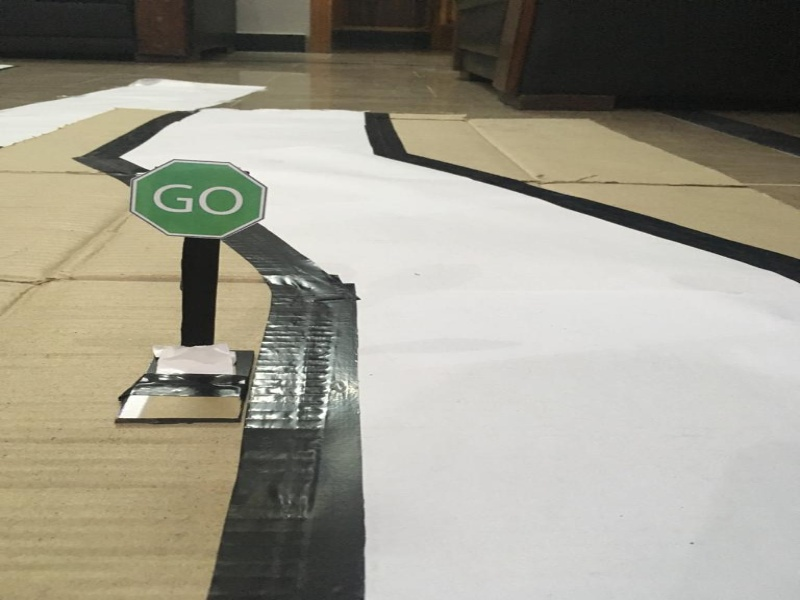Go: (123, 152, 273, 239)
